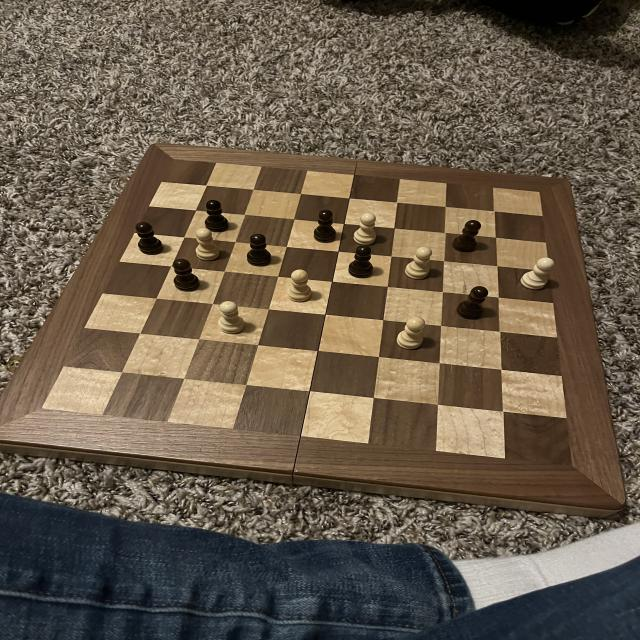black-knight: (454, 285, 489, 321), (170, 257, 203, 292), (135, 220, 167, 256), (452, 220, 481, 256), (348, 244, 377, 279), (244, 233, 274, 266), (312, 208, 339, 244), (202, 199, 230, 233)
white-knight: (518, 256, 558, 291), (216, 298, 246, 337), (396, 316, 428, 350), (193, 228, 224, 262), (403, 246, 432, 281), (351, 212, 379, 246), (287, 267, 312, 305)
